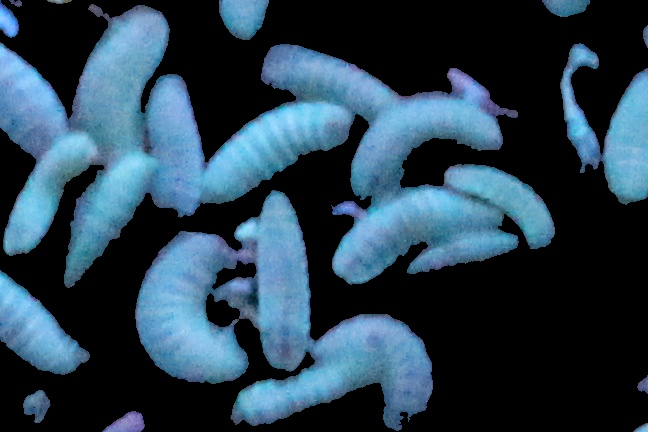larvae: (125, 231, 247, 382), (332, 191, 505, 282), (196, 107, 345, 207), (70, 11, 168, 162), (349, 99, 503, 195), (60, 156, 149, 291), (250, 187, 313, 370), (317, 317, 434, 413), (3, 134, 90, 254), (1, 252, 86, 374), (262, 48, 396, 125), (445, 159, 554, 247), (236, 368, 381, 426), (1, 31, 68, 143), (148, 76, 201, 213), (603, 71, 648, 203), (404, 231, 519, 271), (217, 1, 294, 50)
